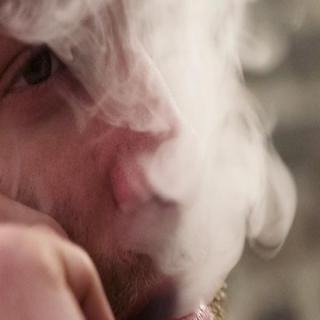smoke: (150, 8, 292, 312)
